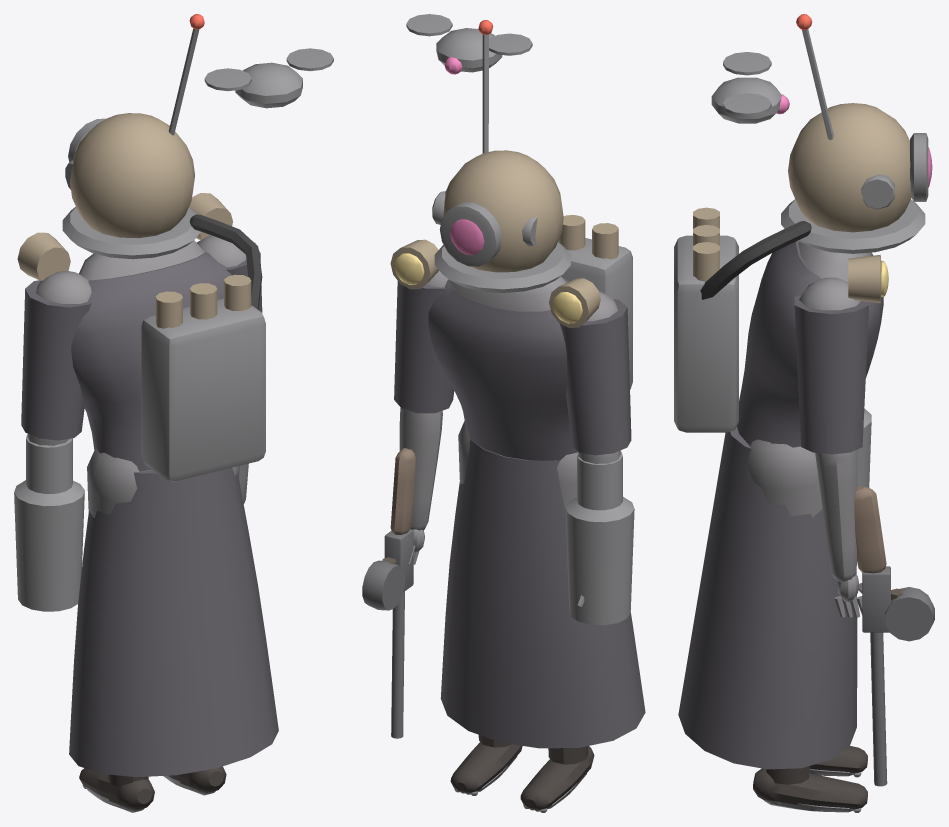
The model's file is en_boss_overseer.gltf.
The picture shows the model from 3 angles, left to right: view 1: azimuth 30°, elevation 25°; view 2: azimuth 150°, elevation 25°; view 3: azimuth 270°, elevation 25°; orthographic projection. The views are drawn at different scales.
Parts seen in each view (by area): view 1: Hips, Spine, Head, ForeL, ArmL, Drone, V3_Lamps, LegL, ShinL, ShinR, V1_Antenna; view 2: Hips, Spine, Head, ForeL, ForeR, ArmL, ArmR, V3_Lamps, Drone, ShinL, ShinR, V1_Antenna (+2 smaller); view 3: Hips, Spine, Head, ForeR, ArmR, LegR, ShinR, Drone, V3_Lamps, ShinL, V1_Antenna, ForeL.
Boxes of the visible parts, bbox=[...] form: Hips: bbox=[69, 467, 278, 777]; Spine: bbox=[36, 214, 265, 481]; Head: bbox=[62, 113, 200, 259]; ForeL: bbox=[14, 434, 84, 611]; ArmL: bbox=[21, 280, 91, 440]; Drone: bbox=[204, 48, 333, 108]; V3_Lamps: bbox=[17, 193, 232, 280]; LegL: bbox=[87, 448, 149, 518]; ShinL: bbox=[79, 768, 154, 812]; ShinR: bbox=[163, 766, 226, 795]; V1_Antenna: bbox=[168, 14, 204, 135]; Hips: bbox=[440, 439, 645, 748]; Spine: bbox=[426, 215, 632, 460]; Head: bbox=[432, 150, 570, 292]; ForeL: bbox=[565, 450, 634, 625]; ForeR: bbox=[362, 408, 442, 738]; ArmL: bbox=[559, 299, 631, 455]; ArmR: bbox=[394, 281, 454, 413]; V3_Lamps: bbox=[390, 239, 600, 327]; Drone: bbox=[406, 14, 532, 74]; ShinL: bbox=[520, 746, 594, 812]; ShinR: bbox=[450, 735, 522, 795]; V1_Antenna: bbox=[478, 20, 493, 153]; Hips: bbox=[678, 426, 857, 769]; Spine: bbox=[674, 207, 883, 447]; Head: bbox=[781, 103, 932, 253]; ForeR: bbox=[815, 449, 934, 786]; ArmR: bbox=[794, 295, 869, 454]; LegR: bbox=[746, 439, 822, 517]; ShinR: bbox=[753, 766, 867, 812]; Drone: bbox=[711, 52, 789, 123]; V3_Lamps: bbox=[848, 254, 888, 303]; ShinL: bbox=[809, 746, 867, 777]; V1_Antenna: bbox=[796, 14, 833, 139]; ForeL: bbox=[857, 408, 871, 487].
Bounding box in the file's own units: 0.7875 × 2.16 × 0.6414.
